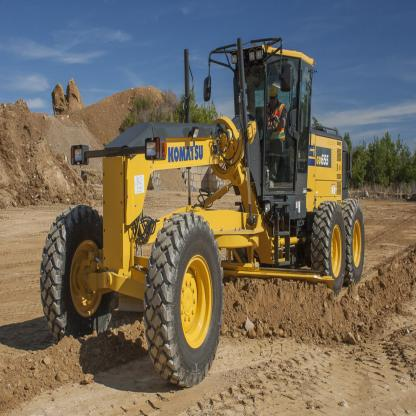bull_dozer/loader/grader: (36, 28, 374, 391)
